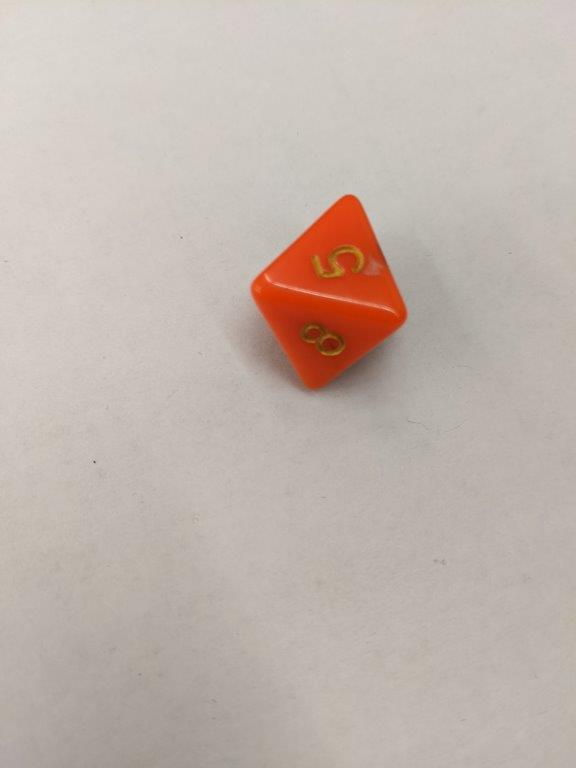d8-5: (248, 194, 409, 391)
